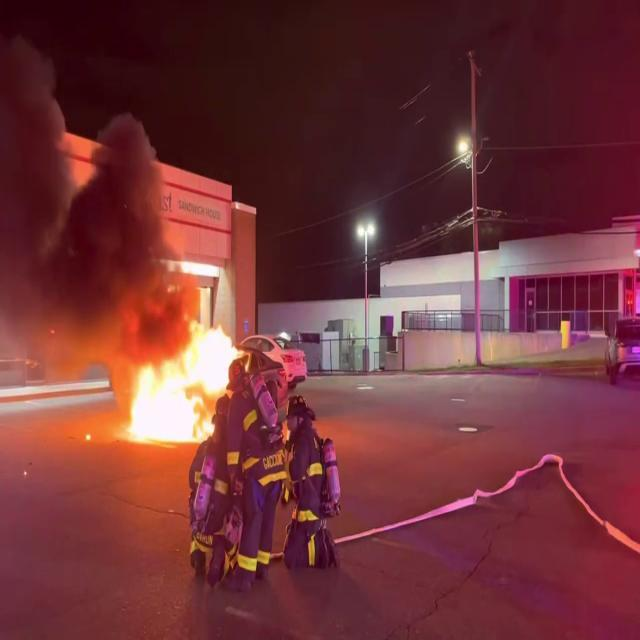Fire: (118, 303, 242, 445)
Smoke: (0, 0, 178, 348)
